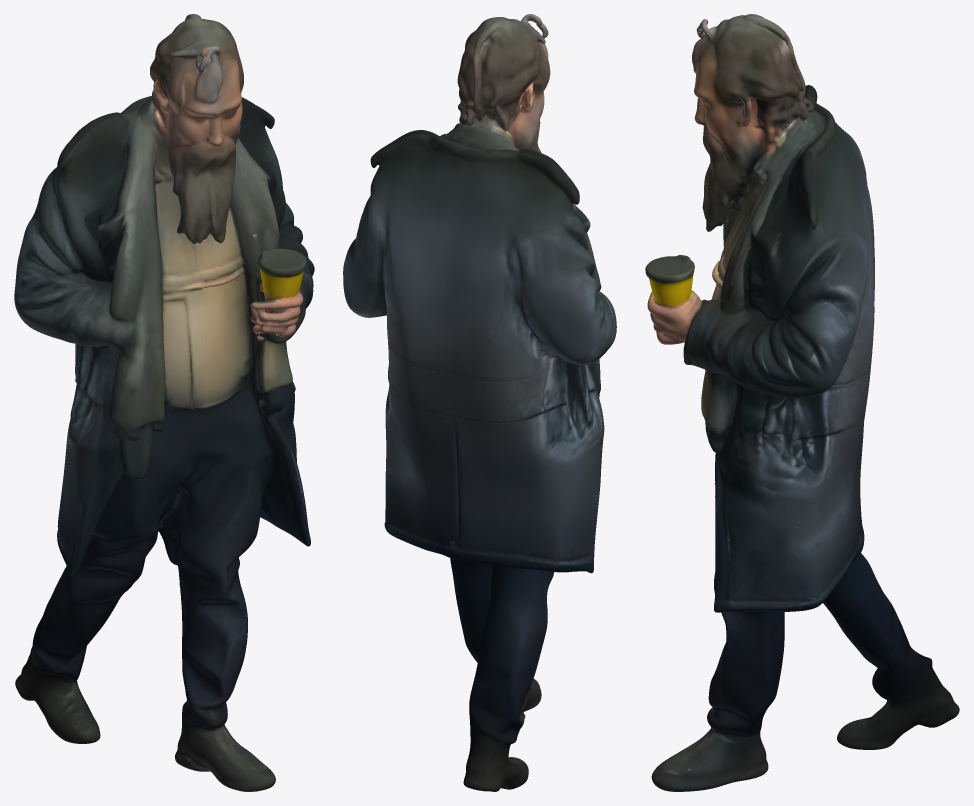
3 views of the same model, side by side, from view 1: azimuth 30°, elevation 25°; view 2: azimuth 150°, elevation 25°; view 3: azimuth 270°, elevation 25° (orthographic). The views are drawn at different scales.
Parts seen in each view (by area): view 1: tripo_node_74adc554-2224-4d11-a0b5-d8b568473b6c; view 2: tripo_node_74adc554-2224-4d11-a0b5-d8b568473b6c; view 3: tripo_node_74adc554-2224-4d11-a0b5-d8b568473b6c.
Boxes of the visible parts, x1,y1,x2,y2 form: tripo_node_74adc554-2224-4d11-a0b5-d8b568473b6c: (14, 14, 314, 791); tripo_node_74adc554-2224-4d11-a0b5-d8b568473b6c: (343, 14, 616, 791); tripo_node_74adc554-2224-4d11-a0b5-d8b568473b6c: (645, 14, 959, 791).
Bounding box in the file's own units: 0.3897 × 1 × 0.3751.
1 material, 1 textured.
